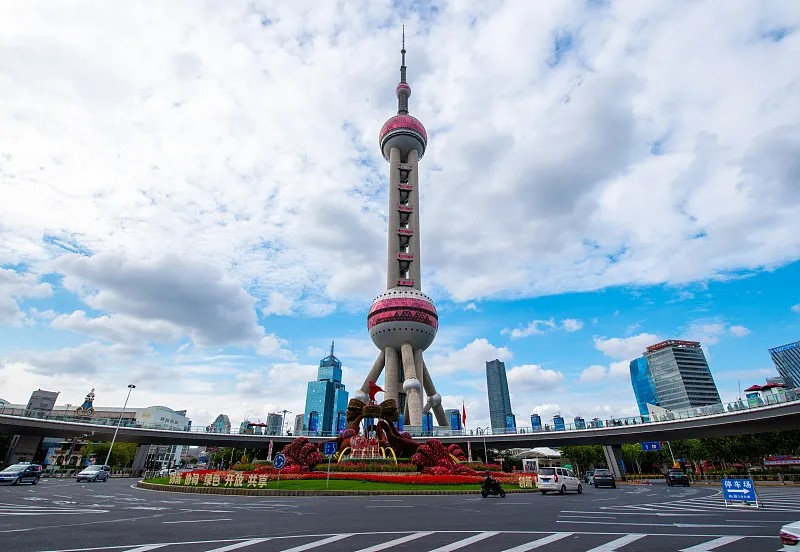Oriental: (346, 25, 450, 426)
